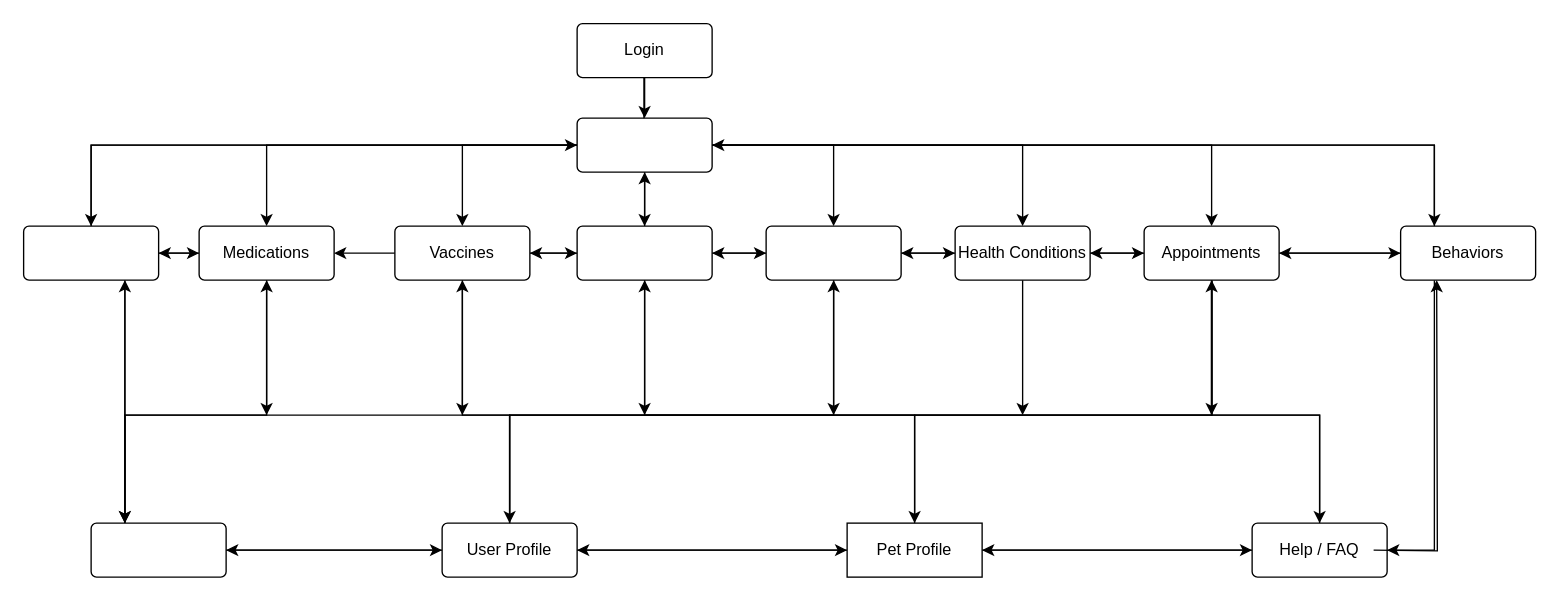
Image size: 1559x601. Some labels were removed from this diagram. The centre of each missing label's shape, as x and y in pixels:
"Contact Us" belongs at (158,549).
"Dashboard / Home" belongs at (644,144).
"Food" belongs at (90,252).
"Pets" belongs at (644,252).
"Vets" belongs at (833,252).
